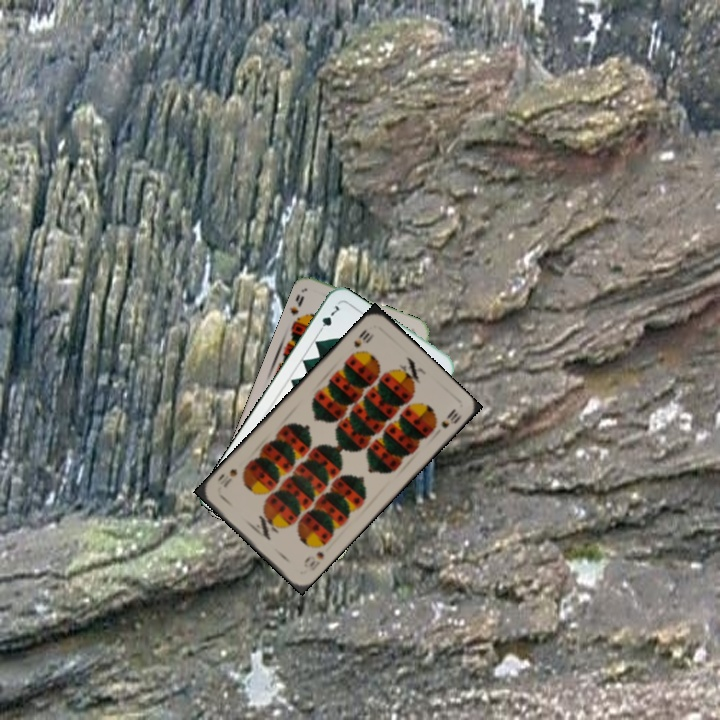G7: (314, 300, 342, 337)
S10: (299, 547, 327, 573), (349, 326, 376, 350)
S9: (286, 290, 307, 327)
